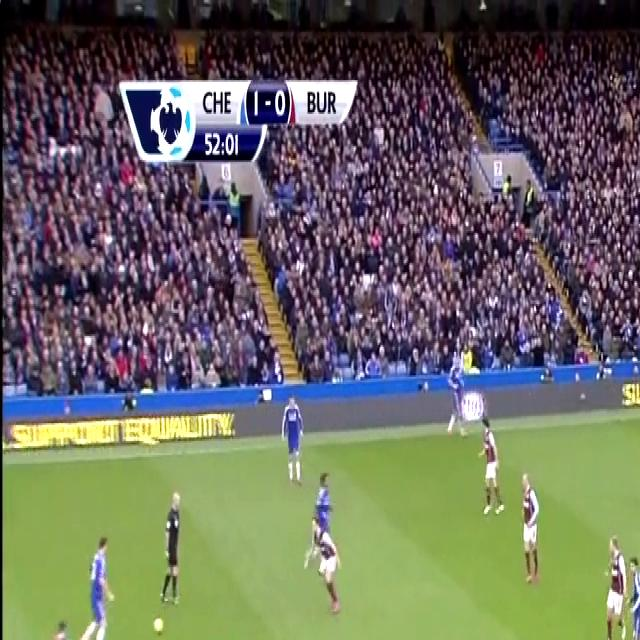ball: (147, 606, 162, 636), (148, 615, 163, 640)
referee: (158, 481, 190, 618)
soccer-player: (80, 528, 119, 640), (516, 469, 546, 594), (313, 519, 346, 618), (308, 466, 339, 570), (597, 533, 627, 640), (476, 415, 502, 520), (277, 392, 302, 490), (446, 357, 471, 447), (622, 549, 640, 640), (30, 610, 79, 640)
